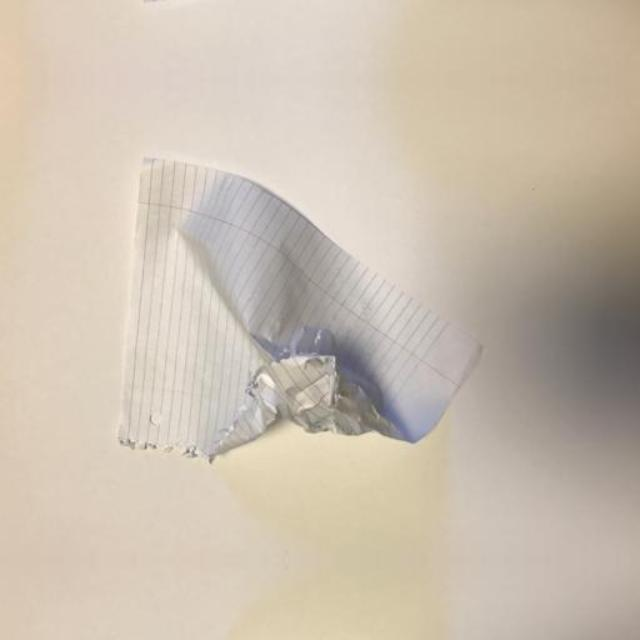paper: (96, 130, 490, 488), (95, 0, 490, 29), (95, 632, 490, 640)
